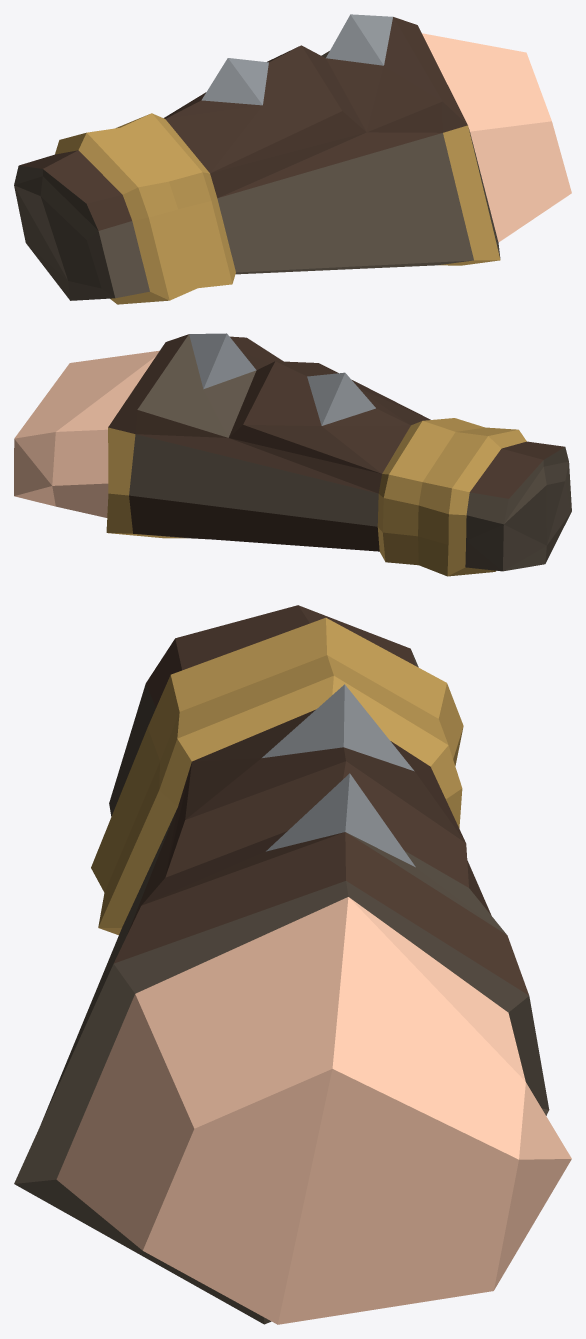
The model's file is Chr_ArmLowerRight_Male_01_Static.fbx.
The picture shows the model from 3 angles, top to bottom: view 1: azimuth 30°, elevation 25°; view 2: azimuth 150°, elevation 25°; view 3: azimuth 270°, elevation 25°; orthographic projection. The views are drawn at different scales.
Visible parts, largest first — view 1: Chr_ArmLowerRight_Male_01_Static; view 2: Chr_ArmLowerRight_Male_01_Static; view 3: Chr_ArmLowerRight_Male_01_Static.
Boxes of the visible parts, left/top/right/bottom form: Chr_ArmLowerRight_Male_01_Static: left=14, top=14, right=571, bottom=304; Chr_ArmLowerRight_Male_01_Static: left=14, top=333, right=571, bottom=576; Chr_ArmLowerRight_Male_01_Static: left=14, top=605, right=571, bottom=1324.
Size of the model in its own units: 0.2896 by 0.1385 by 0.1484.
